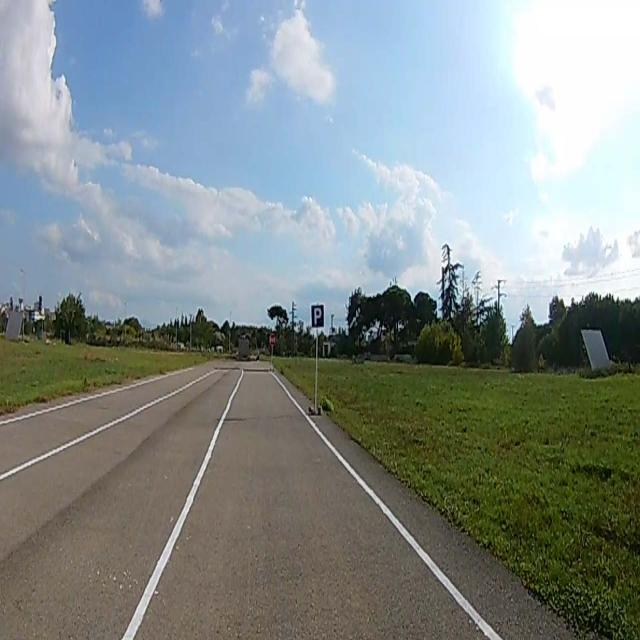park: (312, 307, 324, 325)
